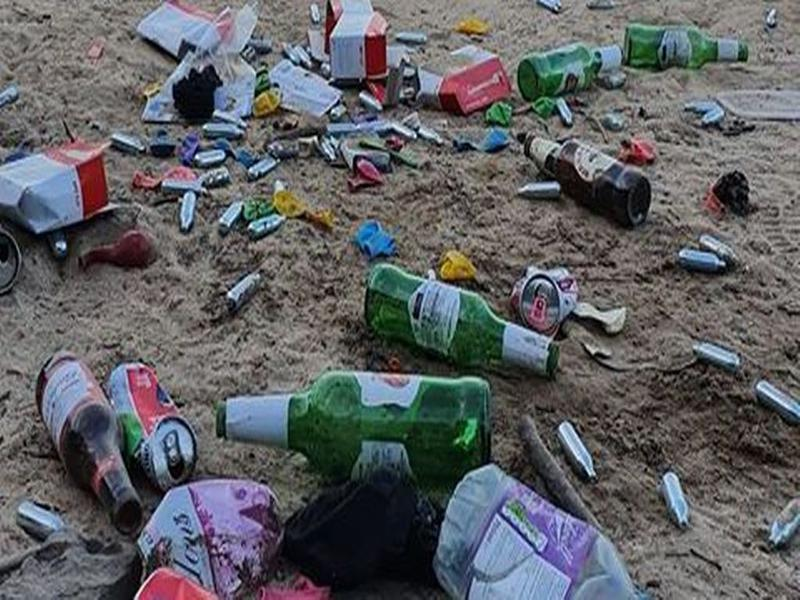bottle: (209, 366, 497, 481), (357, 260, 565, 383), (28, 345, 147, 539), (521, 130, 655, 229), (619, 15, 754, 74), (515, 33, 627, 104), (549, 417, 602, 484), (654, 469, 705, 536), (668, 241, 727, 279)
can: (101, 357, 201, 497)
cardboard: (2, 129, 126, 242), (126, 1, 261, 60), (414, 41, 515, 115), (319, 9, 397, 84)
